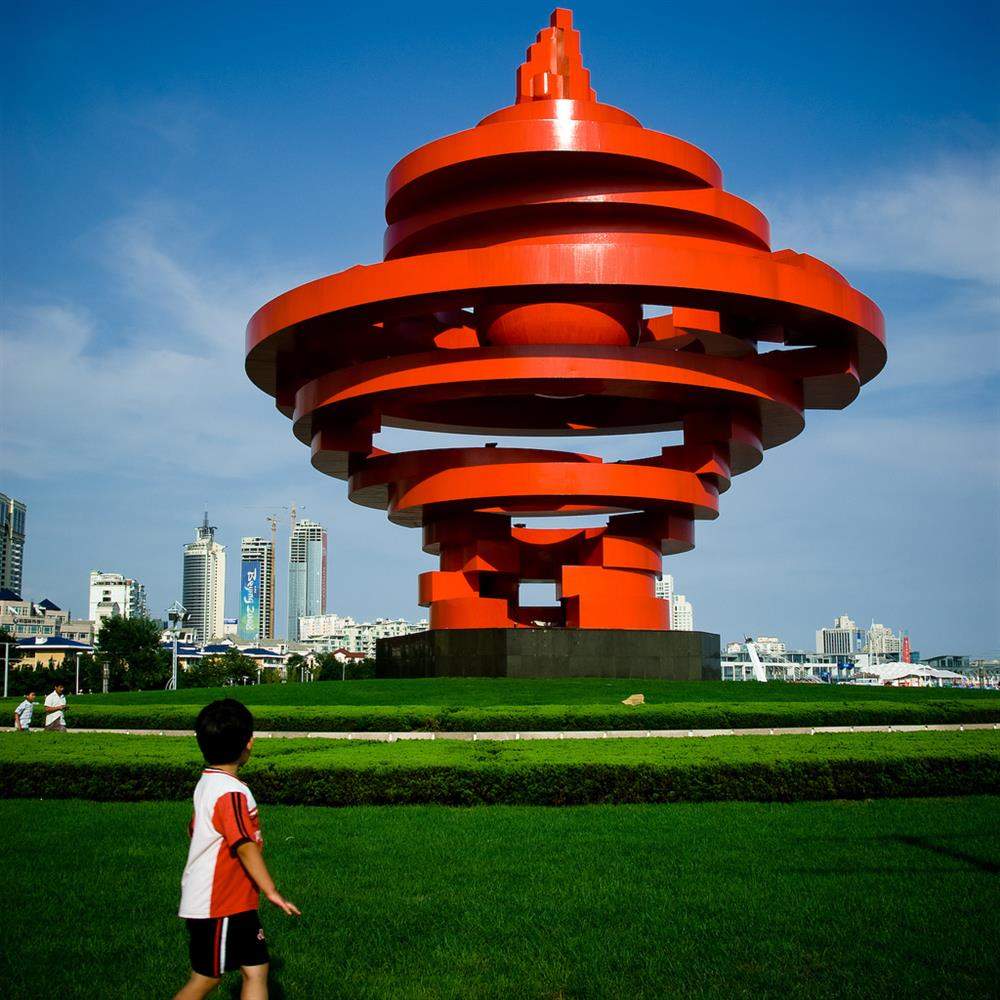may_wind: (221, 3, 899, 624)
